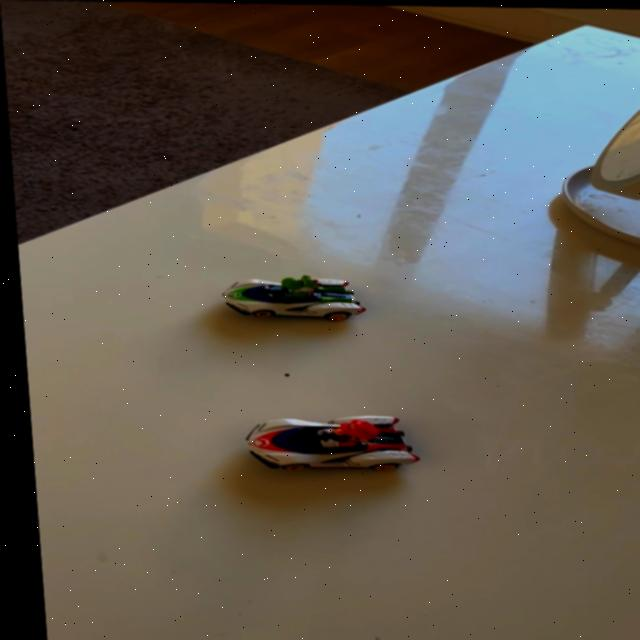mario: (221, 406, 423, 479)
yoshi: (209, 263, 376, 326)
